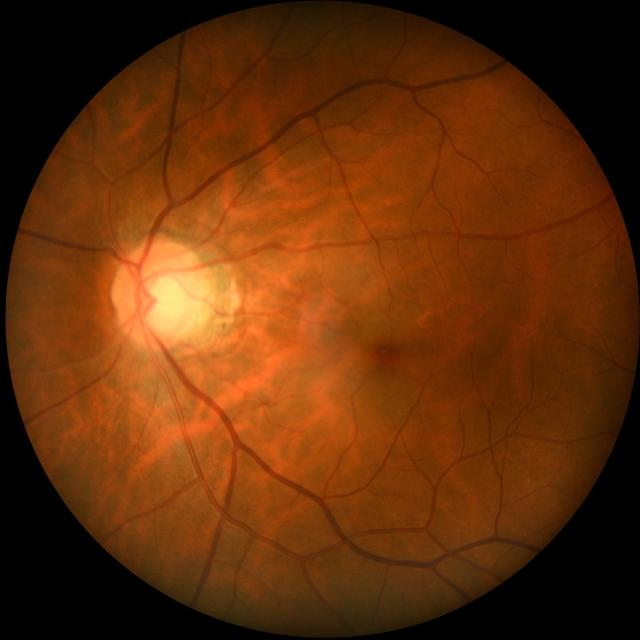OC: (139, 268, 194, 334)
OD: (111, 240, 205, 346)
